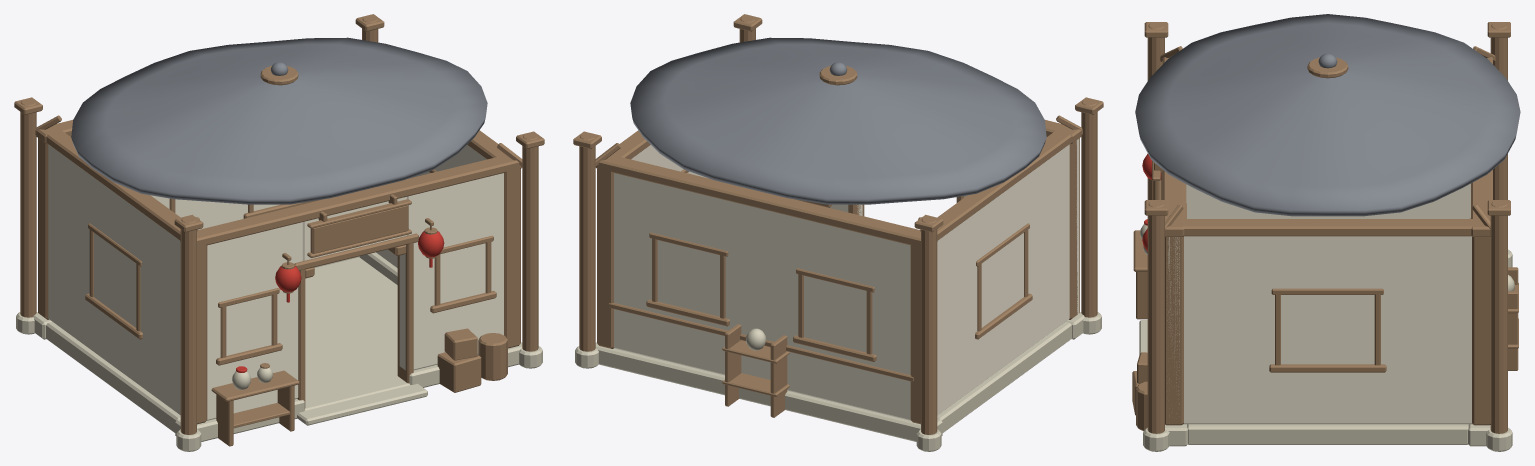
File: shop_umbrella.glb
The picture shows the model from 3 angles, left to right: view 1: azimuth 30°, elevation 25°; view 2: azimuth 150°, elevation 25°; view 3: azimuth 270°, elevation 25°; orthographic projection. The views are drawn at different scales.
Parts seen in each view (by area): view 1: Decor_All, Roof_All, Wall_All; view 2: Wall_All, Roof_All, Decor_All; view 3: Roof_All, Wall_All, Decor_All.
Boxes of the visible parts, x1=… form: Decor_All: x1=16, y1=16, x2=542, y2=451; Roof_All: x1=14, y1=14, x2=544, y2=232; Wall_All: x1=48, y1=144, x2=503, y2=420; Wall_All: x1=614, y1=138, x2=1079, y2=420; Roof_All: x1=573, y1=14, x2=1103, y2=232; Decor_All: x1=575, y1=16, x2=1101, y2=451; Roof_All: x1=1135, y1=14, x2=1520, y2=229; Wall_All: x1=1167, y1=183, x2=1472, y2=424; Decor_All: x1=1132, y1=22, x2=1518, y2=451.
Bounding box in the file's own units: 5.9 × 4.26 × 4.94.
